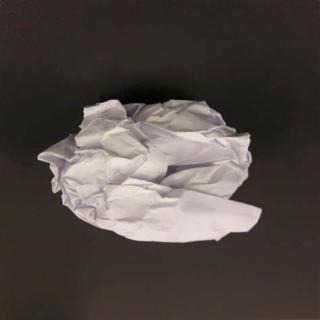Anorganik: (31, 82, 271, 255)
